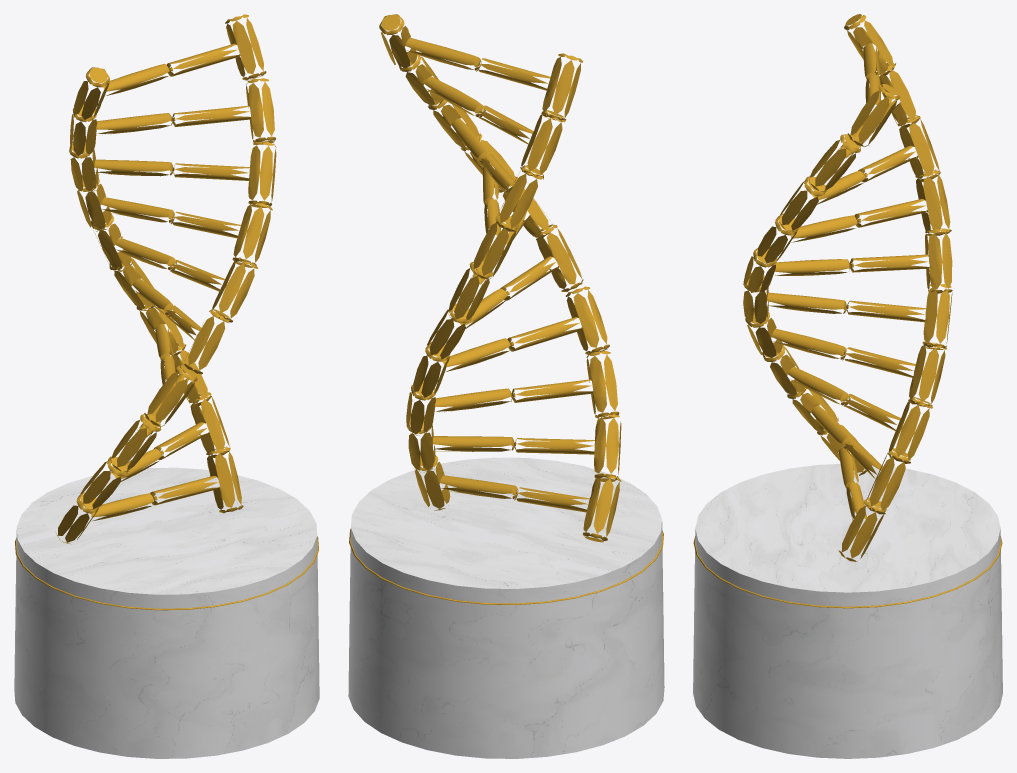
The model's file is medicine.glb.
3 views of the same model, side by side, from view 1: azimuth 30°, elevation 25°; view 2: azimuth 150°, elevation 25°; view 3: azimuth 270°, elevation 25° (orthographic). The views are drawn at different scales.
Parts seen in each view (by area): view 1: marble_column, group1918272623, group98267956, group1890997749, group816999805, group1941224218, group1692922274, group1916454902, group905627815, group64402491, group80703863, group543773821 (+10 smaller); view 2: marble_column, group1184130097, group500574630, group1100175594, group583171219, group1692922274, group1890997749, group1355464784, group64402491, group1941224218, group679215435, group543773821 (+10 smaller); view 3: marble_column, group98256001, group1347056512, group1440525040, group80703863, group679215435, group905627815, group500574630, group1916454902, group1355464784, group816999805, group543773821 (+10 smaller).
Part boxes in pixels (x1,y1,x2,y2): marble_column: [14, 467, 319, 758]; group1918272623: [172, 141, 276, 207]; group98267956: [172, 78, 275, 144]; group1890997749: [167, 14, 266, 80]; group816999805: [172, 202, 272, 267]; group1941224218: [150, 446, 243, 513]; group1692922274: [74, 63, 169, 119]; group1916454902: [170, 257, 257, 322]; group905627815: [69, 142, 173, 193]; group64402491: [70, 103, 172, 155]; group80703863: [75, 175, 174, 231]; group543773821: [153, 392, 230, 459]; marble_column: [348, 457, 664, 758]; group1184130097: [511, 350, 619, 419]; group500574630: [507, 286, 609, 354]; group1100175594: [514, 414, 621, 481]; group583171219: [516, 473, 621, 542]; group1692922274: [478, 53, 582, 121]; group1890997749: [379, 14, 481, 71]; group1355464784: [500, 224, 583, 300]; group64402491: [478, 105, 565, 177]; group1941224218: [415, 454, 518, 510]; group679215435: [406, 380, 512, 436]; group543773821: [407, 415, 514, 472]; marble_column: [693, 464, 1002, 758]; group98256001: [849, 228, 952, 293]; group1347056512: [844, 341, 946, 406]; group1440525040: [846, 284, 952, 349]; group80703863: [854, 169, 951, 235]; group679215435: [844, 394, 932, 463]; group905627815: [858, 115, 940, 182]; group500574630: [745, 308, 846, 360]; group1916454902: [744, 248, 850, 292]; group1355464784: [743, 273, 846, 324]; group816999805: [757, 213, 857, 263]; group543773821: [845, 438, 910, 514].
Size of the model in its own units: 0.4302 by 1 by 0.4302.
8 materials, 1 textured.
